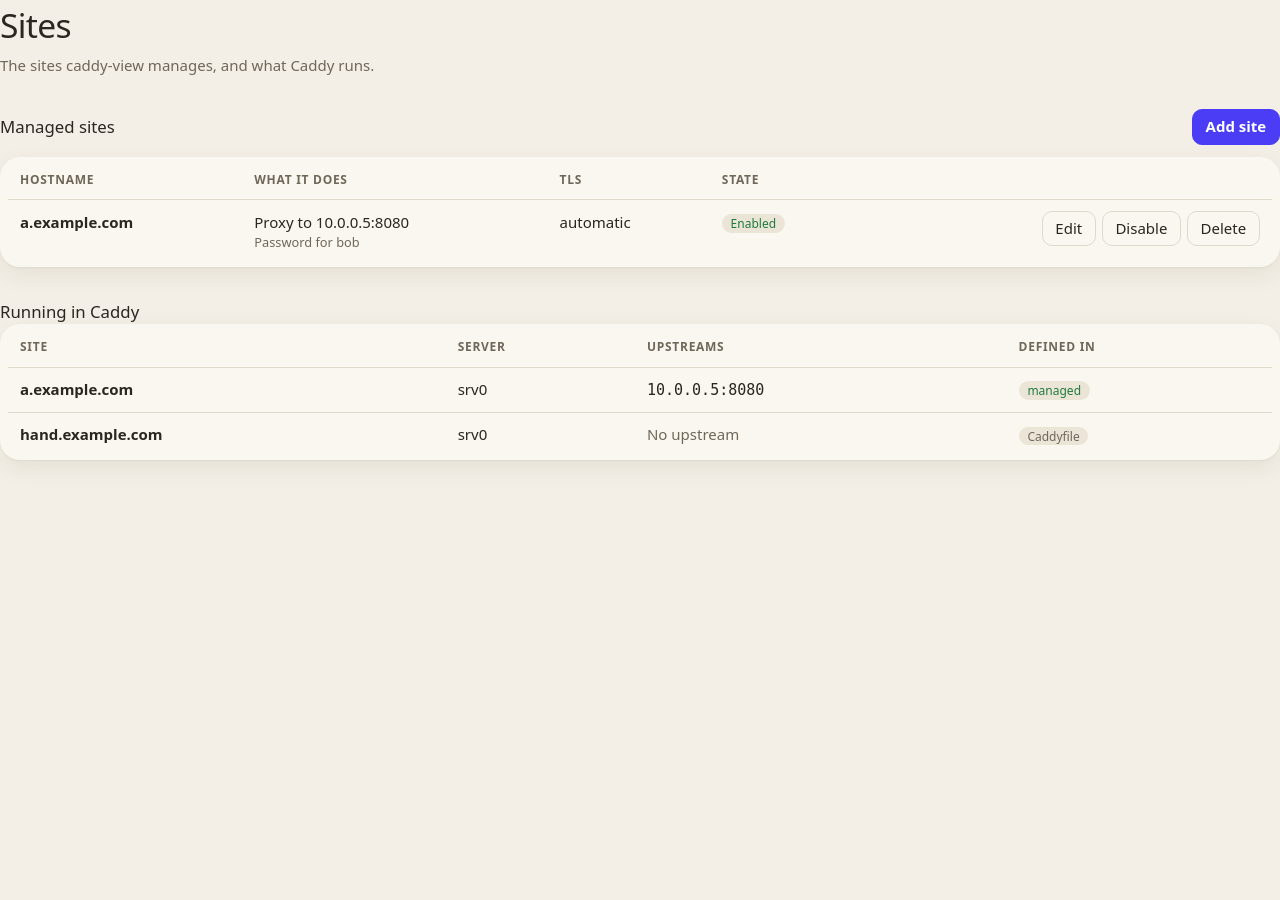
SitesView listing › opens the wizard of a protected site with the password switch on
Check: the heading "Sites" is shown, box 0,2 -> 71,48
Check: the text "a.example.com" next to "Proxy to 10.0.0.5:8080" is shown, box 20,212 -> 133,232
What coordinates should you click on to do the following:
click the button with aria-label "Edit a.example.com"
I would click on:
 (1069, 229)
Its box is 1042,211 -> 1096,246.
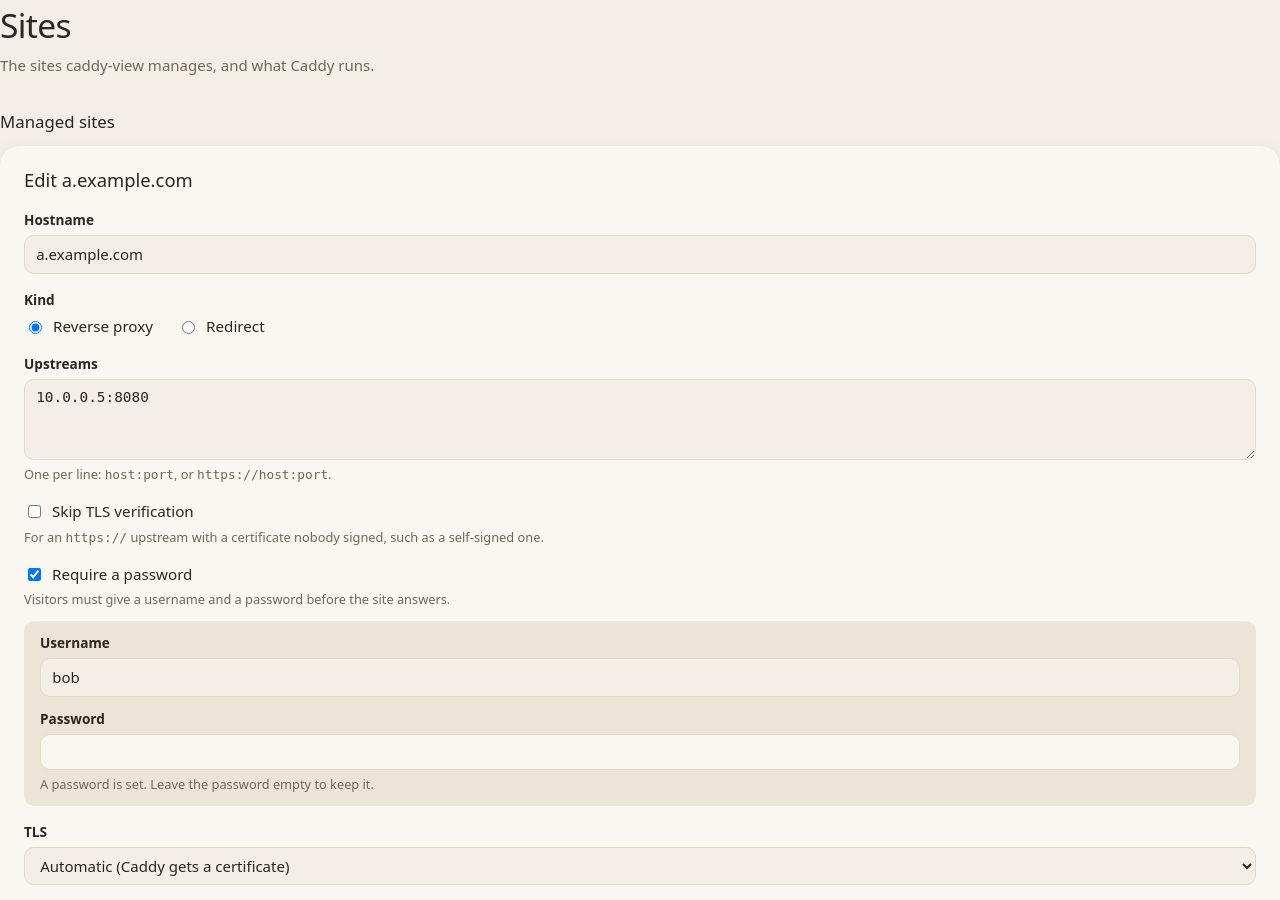
Check: the checkbox labelled "Require a password" is checked, box 28,568 -> 41,581
Check: the field labelled "Username" holds "bob", box 40,658 -> 1240,697
